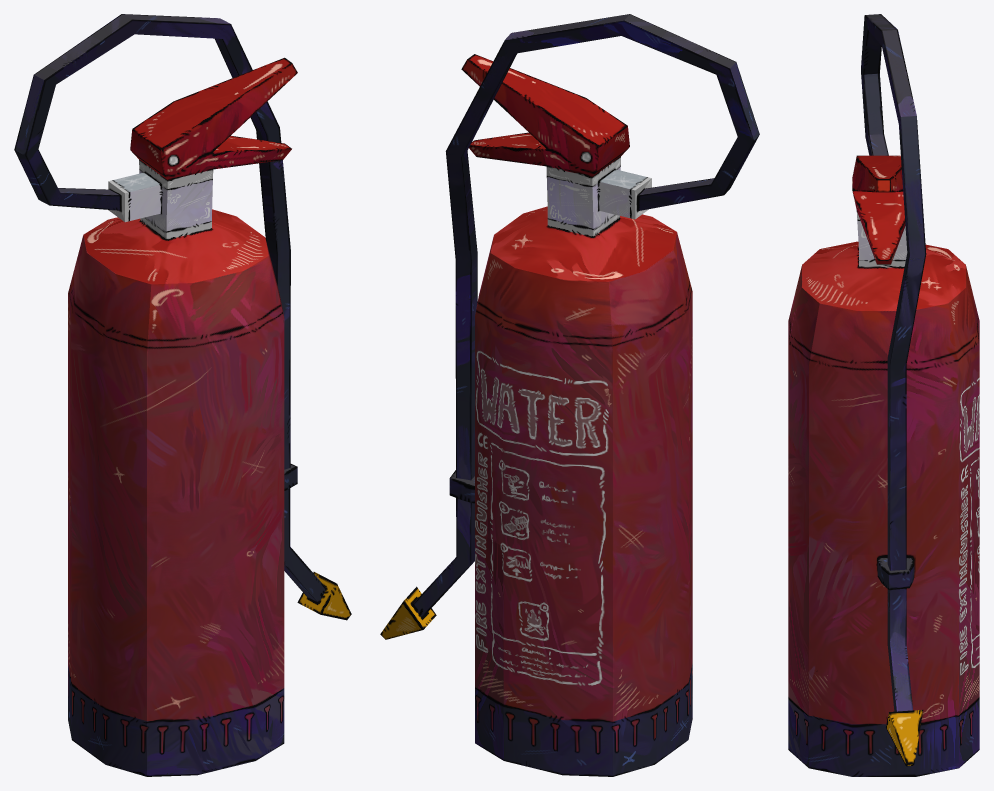
File: Fire_Extinguisher.fbx
The picture shows the model from 3 angles, left to right: view 1: azimuth 30°, elevation 25°; view 2: azimuth 150°, elevation 25°; view 3: azimuth 270°, elevation 25°; orthographic projection. The views are drawn at different scales.
Parts seen in each view (by area): view 1: Fire_Extinguisher; view 2: Fire_Extinguisher; view 3: Fire_Extinguisher.
Boxes of the visible parts, x1,y1,x2,y2 form: Fire_Extinguisher: [14, 14, 351, 776]; Fire_Extinguisher: [380, 14, 759, 776]; Fire_Extinguisher: [788, 14, 979, 776].
Bounding box in the file's own units: 0.8888 × 1.77 × 0.44.
Materials: 1 (1 with a texture image).
